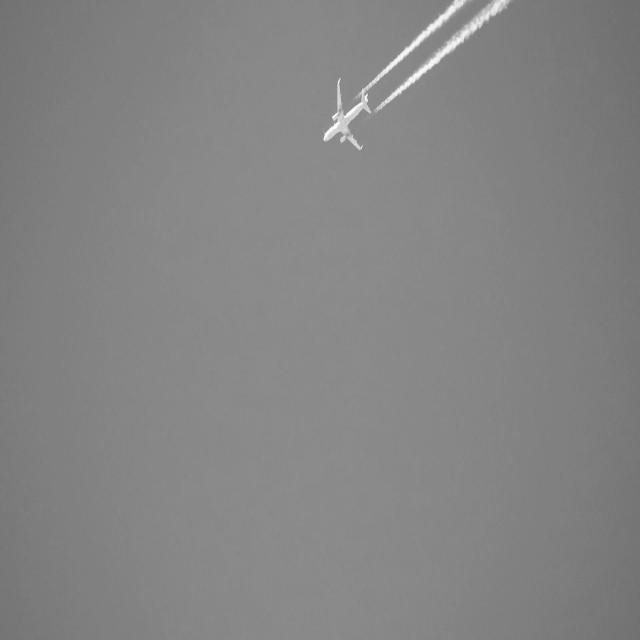aeroplane: (321, 76, 375, 159)
